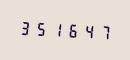five: (32, 18, 46, 39)
four: (78, 20, 92, 41)
one: (48, 19, 62, 39)
seven: (93, 21, 107, 42)
six: (63, 19, 77, 40)
three: (17, 17, 31, 38)
